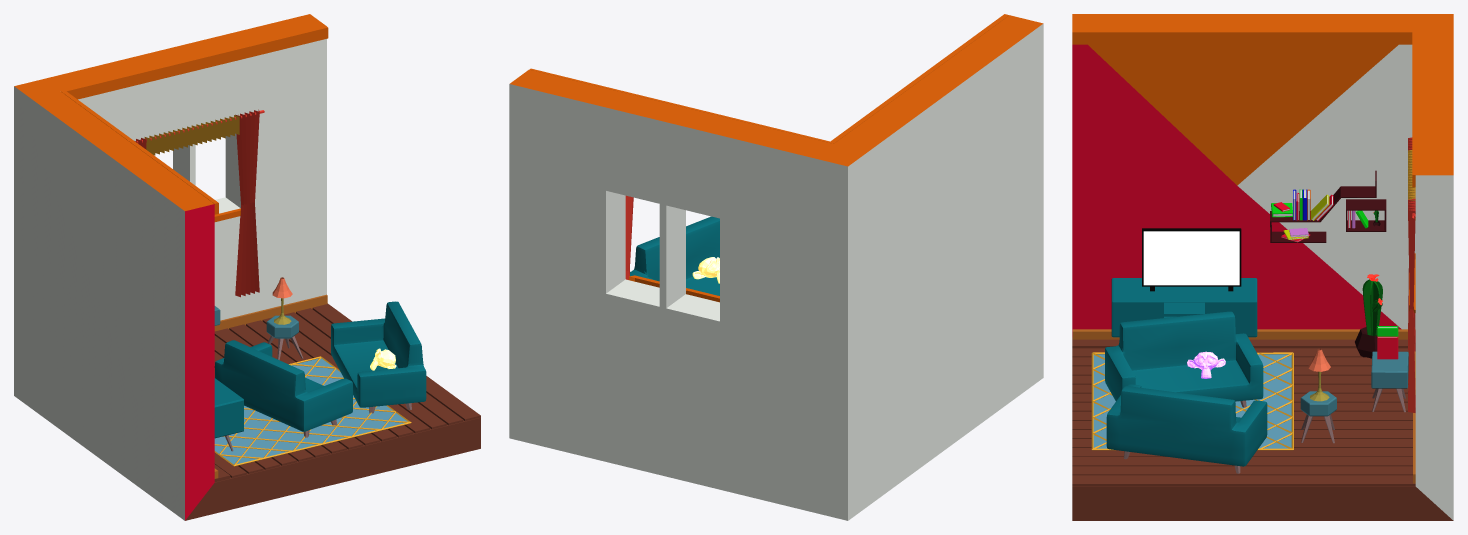
File: room.glb
3 views of the same model, side by side, from view 1: azimuth 30°, elevation 25°; view 2: azimuth 150°, elevation 25°; view 3: azimuth 270°, elevation 25° (orthographic). The views are drawn at different scales.
Parts seen in each view (by area): view 1: Object_8, Object_6, Object_7, Object_9, Object_23.001, Object_23, Object_17, Object_11, Object_15, Object_19, Object_14, Object_31 (+2 smaller); view 2: Object_8, Object_7, Object_23, Object_11; view 3: Object_6, Object_9, Object_8, Object_7, Object_23.001, Object_23, Object_11, Object_31, Object_39, Object_17, Object_56, Object_10 (+9 smaller).
Boxes of the visible parts, <box> form: Object_8: <box>14,39,326,520</box>; Object_6: <box>185,303,480,520</box>; Object_7: <box>14,14,326,210</box>; Object_9: <box>185,204,214,520</box>; Object_23.001: <box>215,340,352,437</box>; Object_23: <box>331,301,426,413</box>; Object_17: <box>214,358,407,464</box>; Object_11: <box>61,26,328,214</box>; Object_15: <box>135,109,264,297</box>; Object_19: <box>214,356,411,466</box>; Object_14: <box>144,114,239,155</box>; Object_31: <box>214,378,243,438</box>; Object_8: <box>509,23,1043,520</box>; Object_7: <box>510,15,1043,166</box>; Object_23: <box>630,216,719,295</box>; Object_11: <box>529,14,1009,143</box>; Object_6: <box>1072,337,1453,520</box>; Object_9: <box>1072,44,1401,336</box>; Object_8: <box>1237,44,1453,520</box>; Object_7: <box>1072,14,1453,185</box>; Object_23.001: <box>1105,311,1263,407</box>; Object_23: <box>1106,384,1267,473</box>; Object_11: <box>1072,30,1415,187</box>; Object_31: <box>1111,278,1257,337</box>; Object_39: <box>1143,231,1239,285</box>; Object_17: <box>1093,354,1291,448</box>; Object_56: <box>1270,170,1386,242</box>; Object_10: <box>1072,329,1415,483</box>.
Size of the model in its own units: 12 by 12 by 12.
